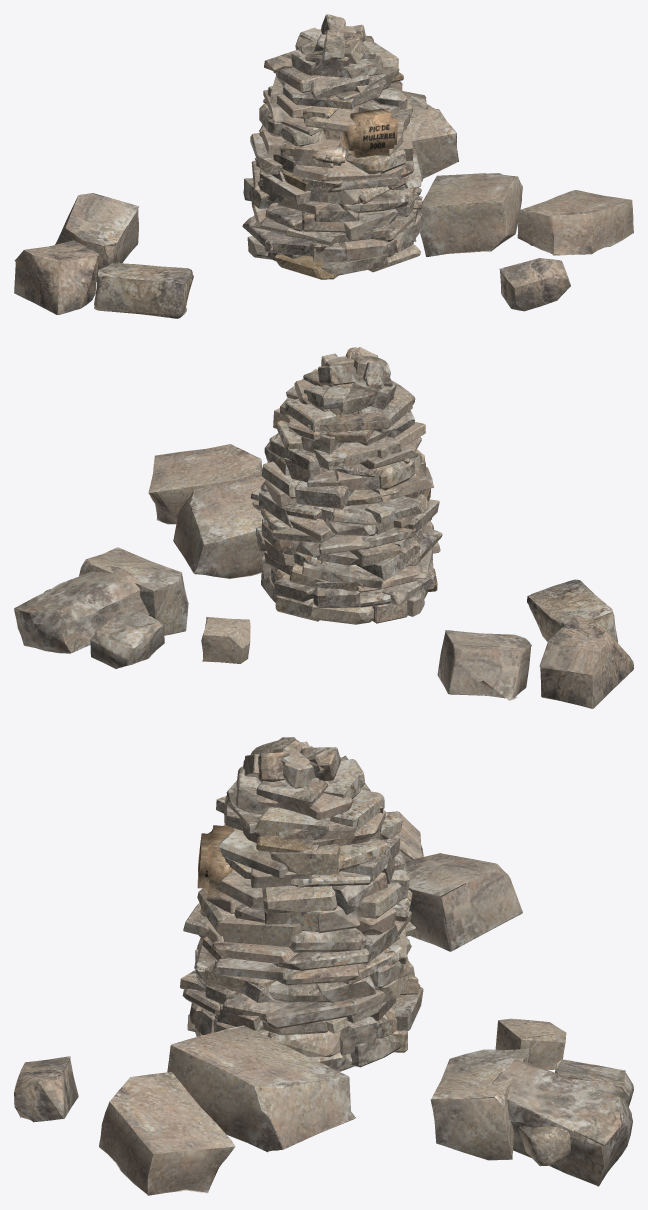
Rendered from cima-mulleres.glb.
3 views of the same model, one above another, from view 1: azimuth 30°, elevation 25°; view 2: azimuth 150°, elevation 25°; view 3: azimuth 270°, elevation 25° (orthographic). The views are drawn at different scales.
Visible parts, largest first — view 1: mojon_granito_gris, bloque7, bloque3, bloque11, bloque6, bloque9, bloque8, bloque0, placa_mulleres, mojon_granito_ocre, placa_mull; view 2: mojon_granito_gris, bloque7, bloque5, bloque11, bloque9, bloque3, bloque0, bloque2, bloque6, bloque1; view 3: mojon_granito_gris, bloque7, bloque3, bloque5, bloque9, bloque0, bloque8, bloque1, bloque2, placa_mulleres, bloque4, bloque11 (+1 smaller).
Boxes of the visible parts, <box> form: mojon_granito_gris: <box>242,14,422,275</box>; bloque7: <box>418,173,522,256</box>; bloque3: <box>517,190,633,255</box>; bloque11: <box>14,240,99,314</box>; bloque6: <box>94,262,193,318</box>; bloque9: <box>55,193,138,281</box>; bloque8: <box>499,258,570,311</box>; bloque0: <box>408,108,458,178</box>; placa_mulleres: <box>342,108,398,157</box>; mojon_granito_ocre: <box>274,72,403,279</box>; placa_mull: <box>312,147,345,165</box>; mojon_granito_gris: <box>250,347,442,624</box>; bloque7: <box>173,472,265,578</box>; bloque5: <box>14,565,149,653</box>; bloque11: <box>539,615,633,708</box>; bloque9: <box>437,630,531,700</box>; bloque3: <box>148,444,262,524</box>; bloque0: <box>79,547,188,635</box>; bloque2: <box>90,607,164,668</box>; bloque6: <box>527,579,617,642</box>; bloque1: <box>201,616,250,663</box>; mojon_granito_gris: <box>180,737,423,1071</box>; bloque7: <box>167,1025,355,1152</box>; bloque3: <box>99,1071,235,1195</box>; bloque5: <box>492,1059,632,1186</box>; bloque9: <box>405,853,522,951</box>; bloque0: <box>430,1048,531,1160</box>; bloque8: <box>14,1056,78,1122</box>; bloque1: <box>495,1018,566,1069</box>; bloque2: <box>555,1059,633,1106</box>; placa_mulleres: <box>197,825,234,897</box>; bloque4: <box>518,1126,570,1166</box>; bloque11: <box>385,811,423,860</box>.
Size of the model in its own units: 5.55 by 2.45 by 4.35.
Materials: 4 (4 with a texture image).
